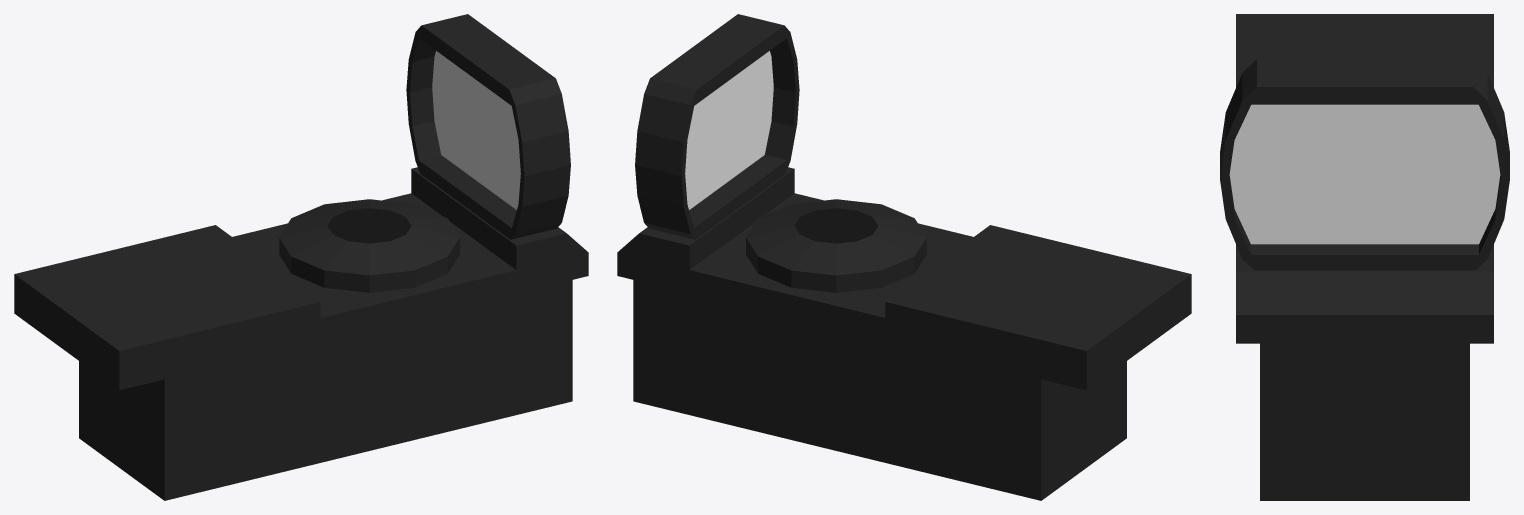
File: Accessories_Red_Dot_B_V8.FBX
3 renders of one model, left to right at view 1: azimuth 30°, elevation 25°; view 2: azimuth 150°, elevation 25°; view 3: azimuth 270°, elevation 25°, orthographic. The views are drawn at different scales.
Parts seen in each view (by area): view 1: Accessories_Red_Dot_B_V8; view 2: Accessories_Red_Dot_B_V8; view 3: Accessories_Red_Dot_B_V8.
Part boxes in pixels (box(x1,y1,x2,y2)): Accessories_Red_Dot_B_V8: box(14, 14, 588, 500); Accessories_Red_Dot_B_V8: box(617, 14, 1191, 500); Accessories_Red_Dot_B_V8: box(1220, 14, 1509, 500).
Size of the model in its own units: 53.38 by 35.69 by 23.26.
